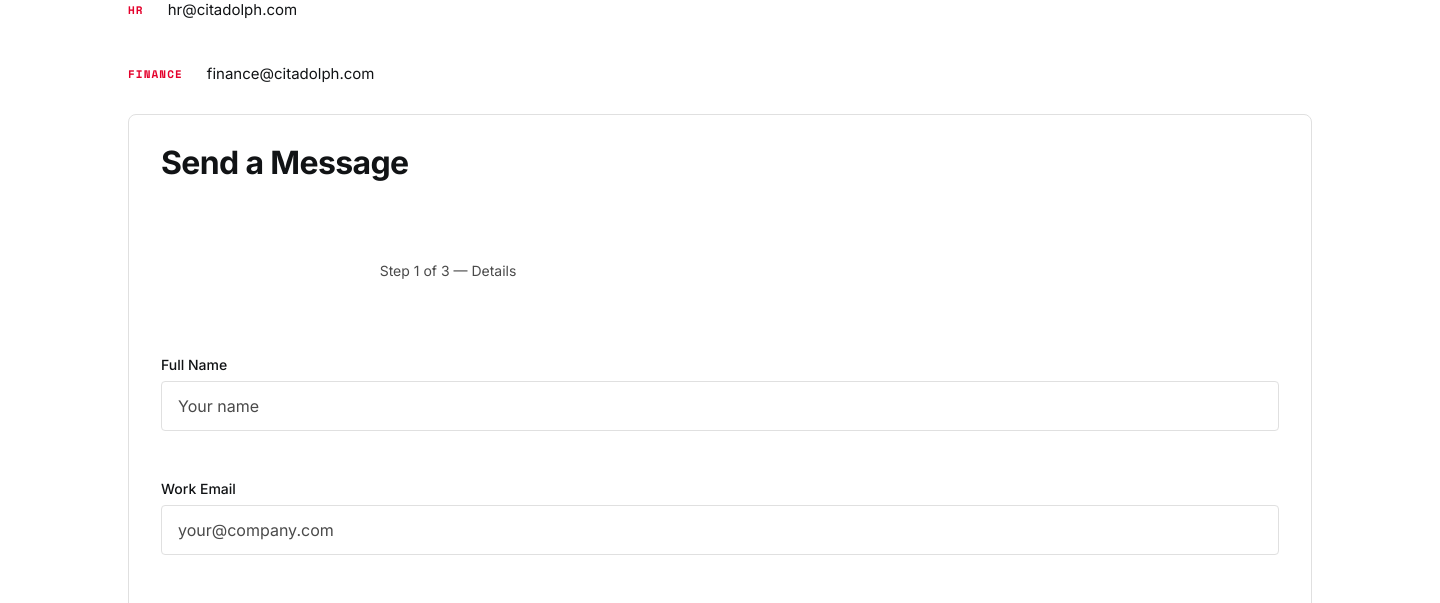
Test case: Contact Form Validation › shows draft saved notice when form has data
(page scrolled)
Type "John" into the field labelled "Full Name" at (720, 406), box x1=161 y1=381 x2=1279 y2=431
Wait 1500 ms
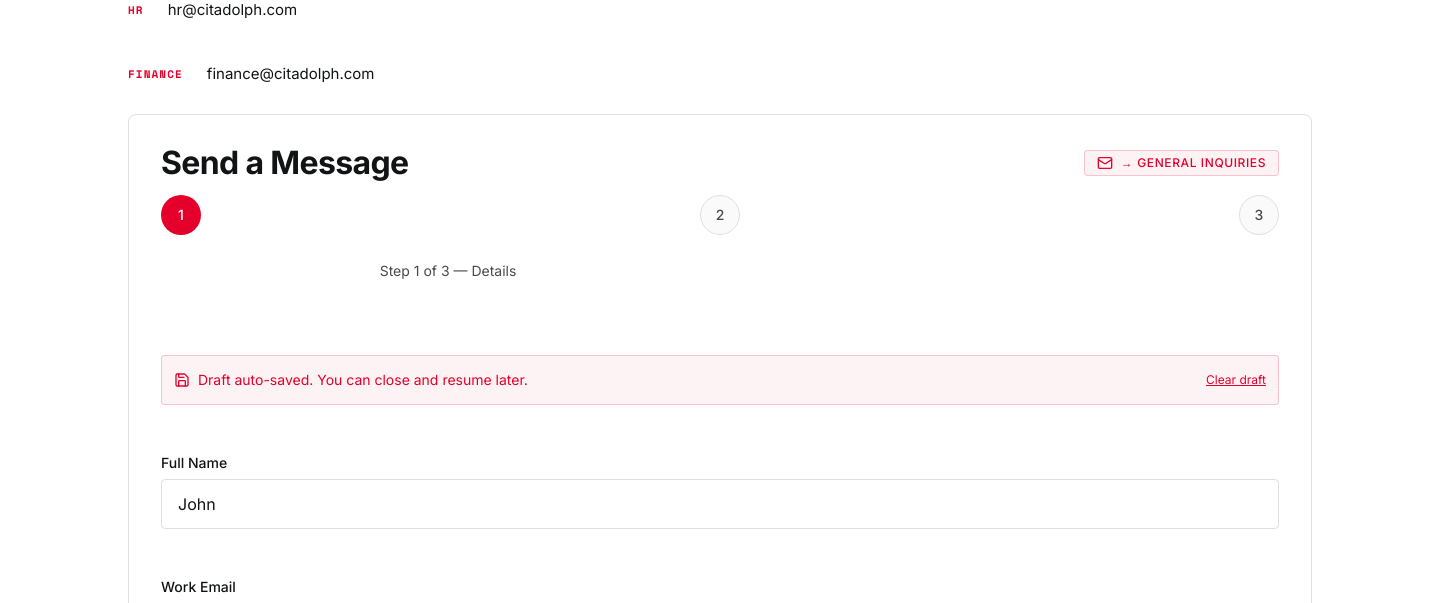
Check: the text "Draft auto-saved. You can close and resume later." is shown, box x1=174 y1=368 x2=528 y2=392
